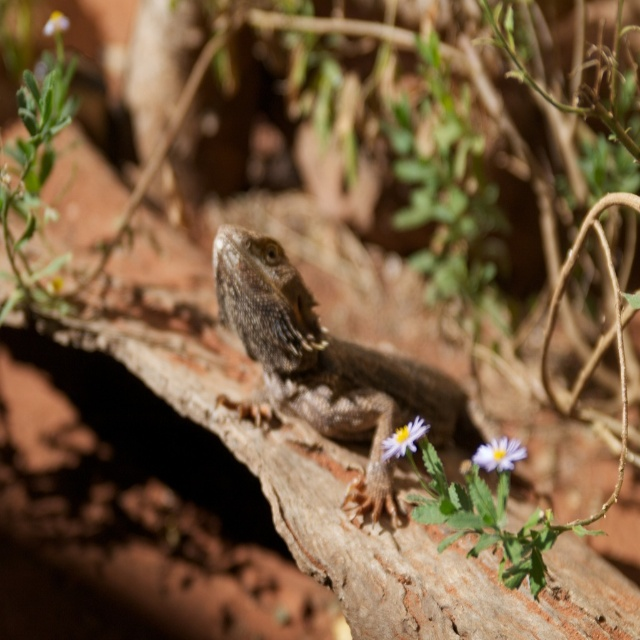Lizard: (204, 219, 475, 567)
